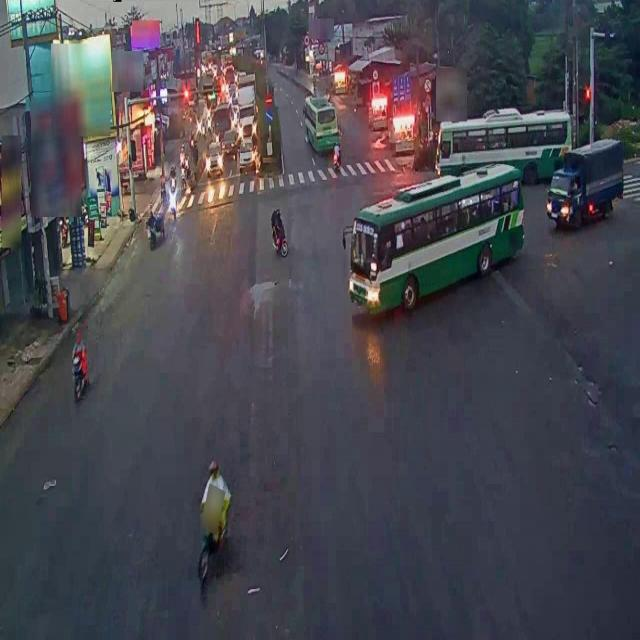bus: (344, 160, 526, 317)
motorcycle: (194, 454, 232, 585), (68, 330, 90, 401), (270, 204, 288, 260)
